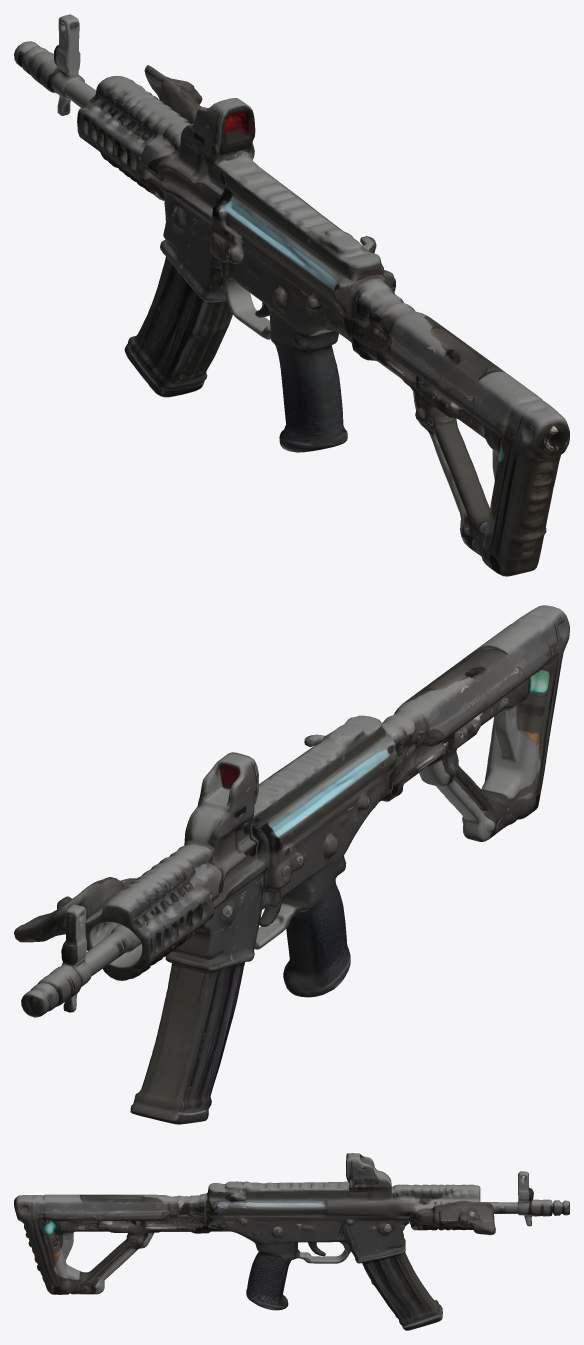
File: rn_patriot15.glb
The picture shows the model from 3 angles, top to bottom: view 1: azimuth 30°, elevation 25°; view 2: azimuth 150°, elevation 25°; view 3: azimuth 270°, elevation 25°; orthographic projection. The views are drawn at different scales.
Parts seen in each view (by area): view 1: tripo_node_026841b8-8a2b-4d65-9b0f-09bb97e2c1a3; view 2: tripo_node_026841b8-8a2b-4d65-9b0f-09bb97e2c1a3; view 3: tripo_node_026841b8-8a2b-4d65-9b0f-09bb97e2c1a3.
Boxes of the visible parts, x1,y1,x2,y2 form: tripo_node_026841b8-8a2b-4d65-9b0f-09bb97e2c1a3: [14, 14, 569, 576]; tripo_node_026841b8-8a2b-4d65-9b0f-09bb97e2c1a3: [14, 605, 569, 1124]; tripo_node_026841b8-8a2b-4d65-9b0f-09bb97e2c1a3: [14, 1153, 569, 1330].
Size of the model in its own units: 0.1394 by 0.3395 by 0.9999.
1 material, 1 textured.
